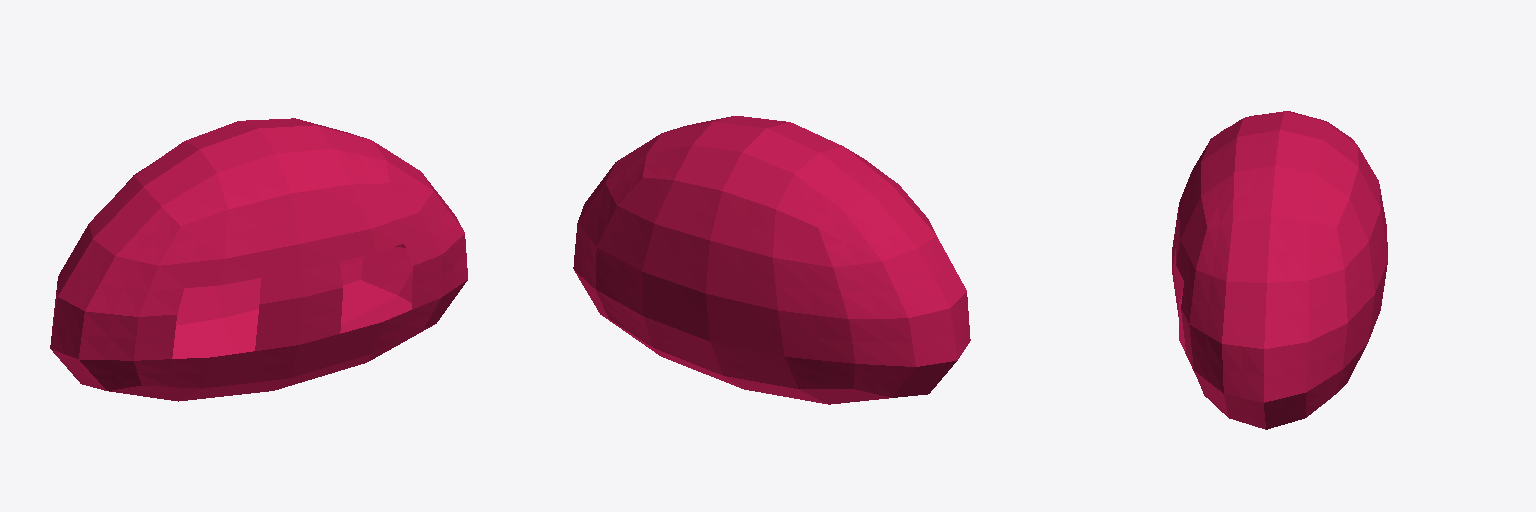
The model's file is Porco-fucinho.obj.
3 renders of one model, left to right at view 1: azimuth 30°, elevation 25°; view 2: azimuth 150°, elevation 25°; view 3: azimuth 270°, elevation 25°, orthographic.
Visible parts, largest first — view 1: Porco-fucinho_Cubo.004; view 2: Porco-fucinho_Cubo.004; view 3: Porco-fucinho_Cubo.004.
Part boxes in pixels (x1,y1,x2,y2): Porco-fucinho_Cubo.004: (50, 118, 467, 401); Porco-fucinho_Cubo.004: (573, 116, 970, 404); Porco-fucinho_Cubo.004: (1172, 111, 1387, 429).
Size of the model in its own units: 0.8787 by 0.5399 by 0.417.